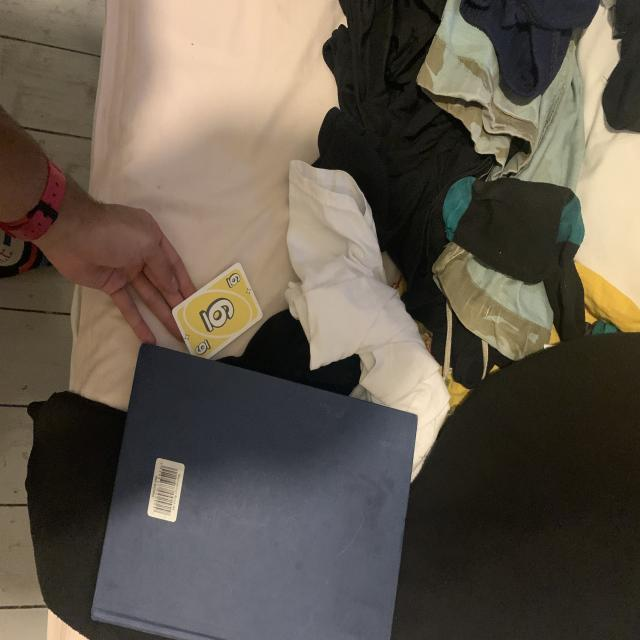lyellow-6: (225, 271, 242, 289)
